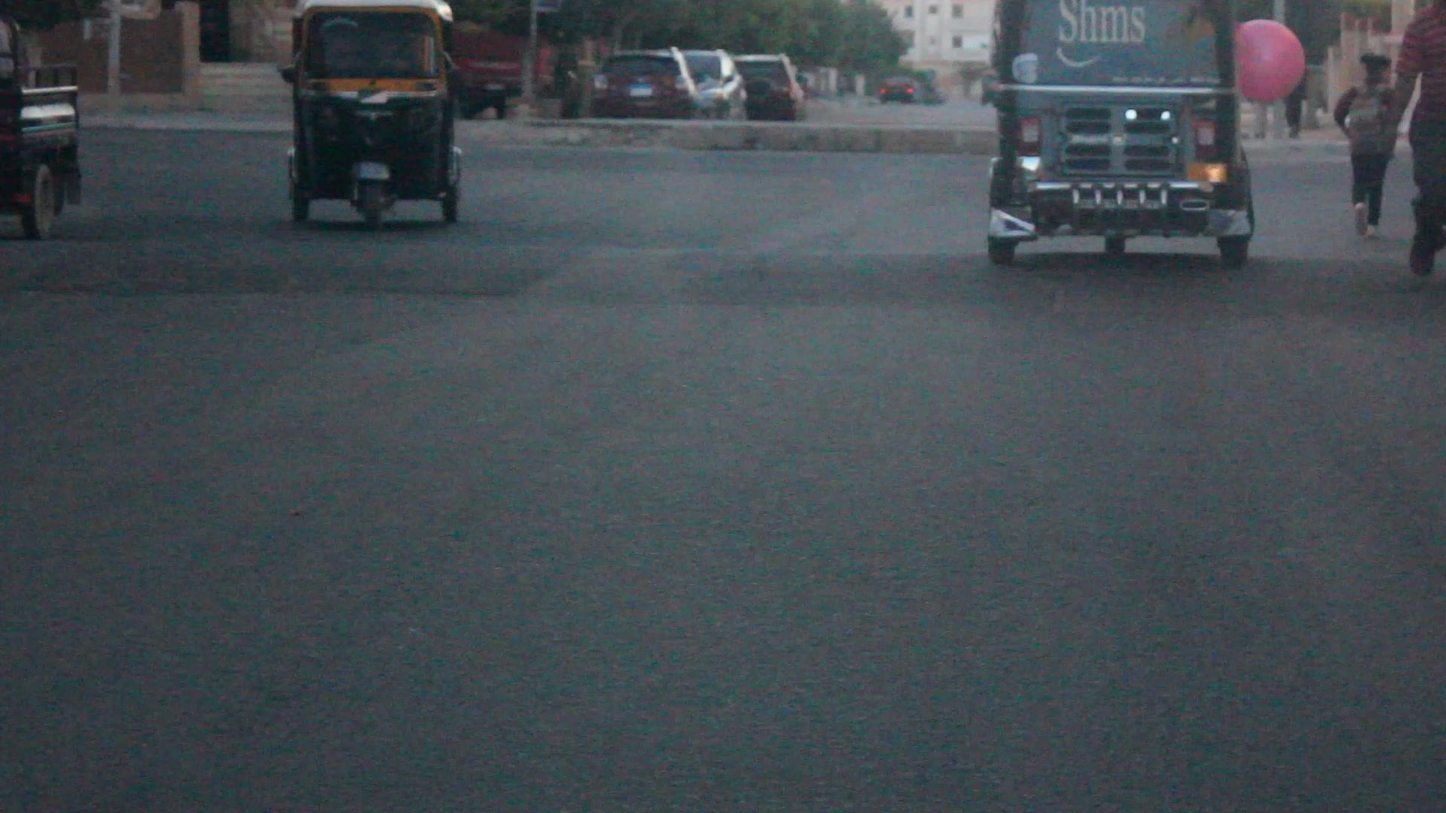Bump: (13, 231, 1446, 337)
